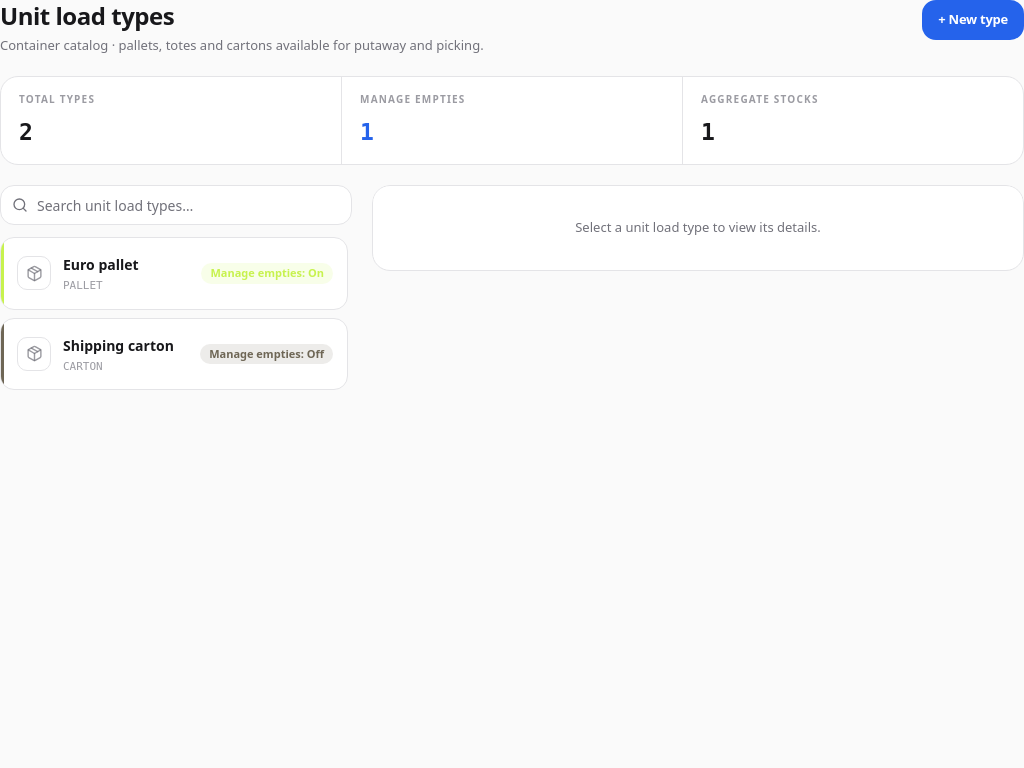
Test: AdminUnitLoadTypesPage › updates manageEmpties on an existing type and re-reads the list
Click the text "Shipping carton" at (118, 345), box [63,336,174,354]
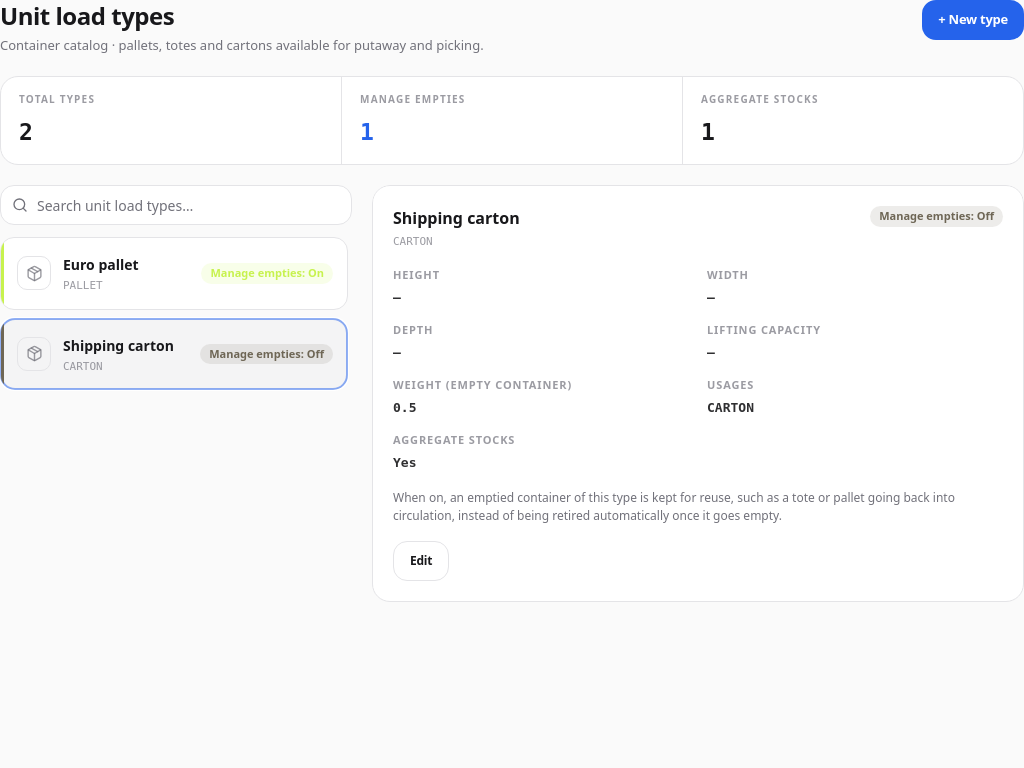
Click the button "Edit" at (421, 560), box [393,540,449,580]
(page scrolled)
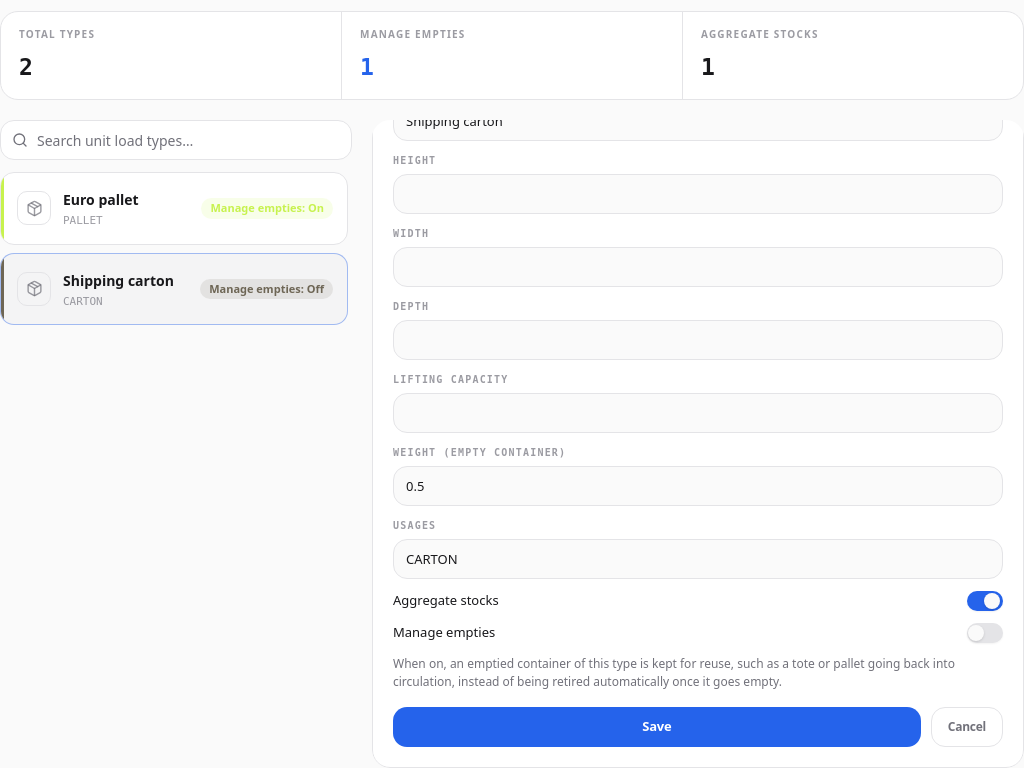
Click the switch named "Manage empties" at (985, 632), box [967,622,1003,642]
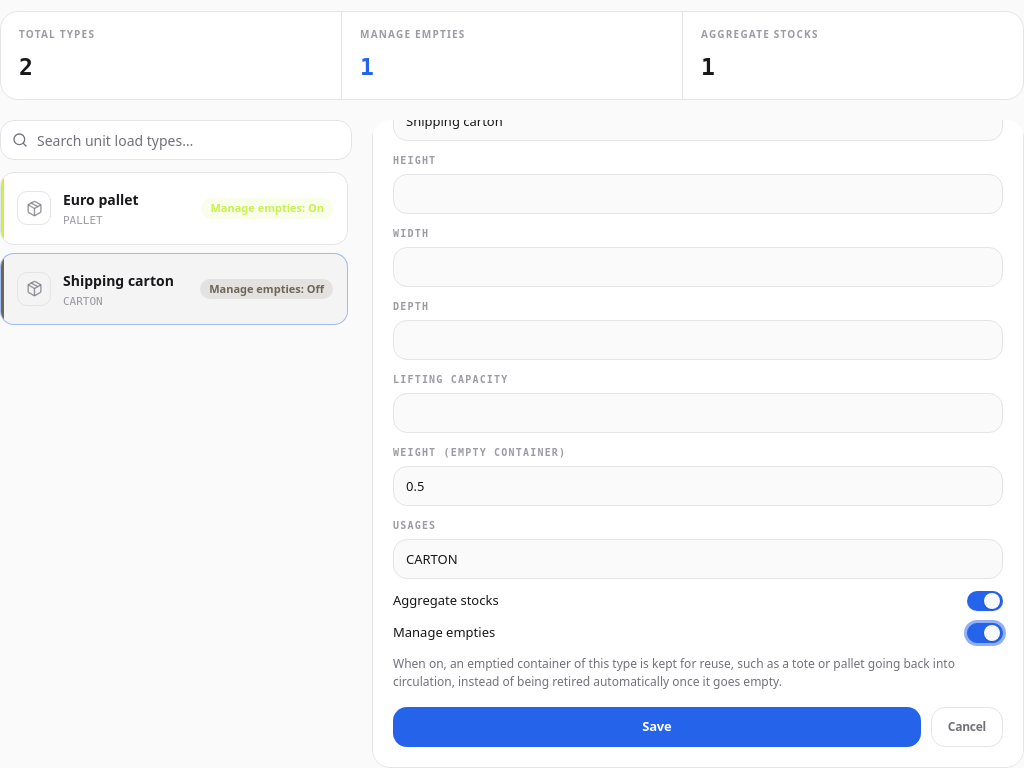
Click the button "Save" at (657, 726), box [393,706,921,746]
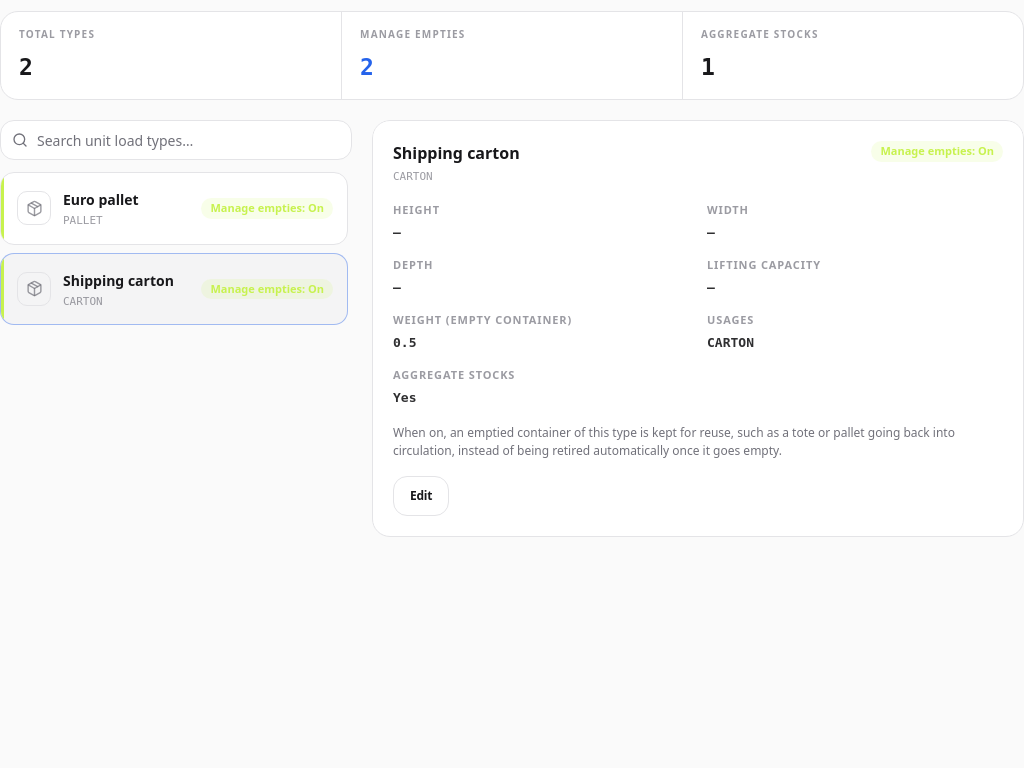
expect the button "Shipping carton" is shown: met, box [0,252,348,325]
expect the 3rd text "Manage empties: On" is shown: met, box [201,278,333,299]
